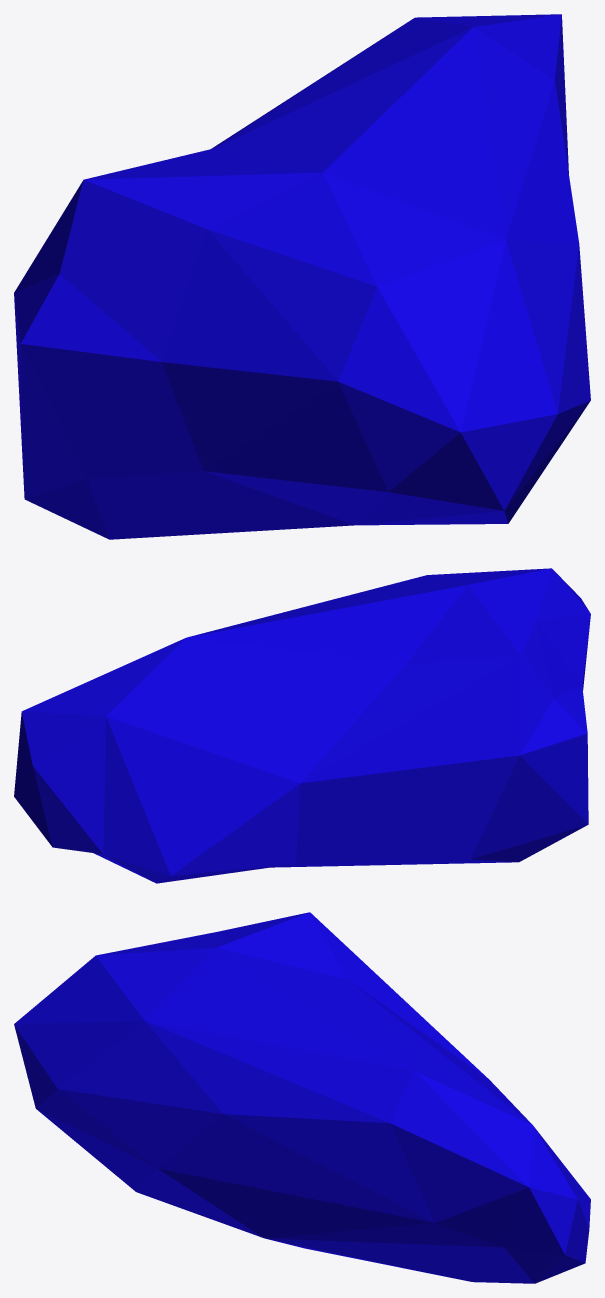
The model's file is Rock5.fbx.
3 views of the same model, one above another, from view 1: azimuth 30°, elevation 25°; view 2: azimuth 150°, elevation 25°; view 3: azimuth 270°, elevation 25° (orthographic). The views are drawn at different scales.
Parts seen in each view (by area): view 1: Rock_1; view 2: Rock_1; view 3: Rock_1.
Boxes of the visible parts, box(x1,y1,x2,y2) form: Rock_1: box(14, 14, 590, 539); Rock_1: box(14, 568, 590, 883); Rock_1: box(14, 912, 590, 1283).
Size of the model in its own units: 172 by 88.82 by 186.
